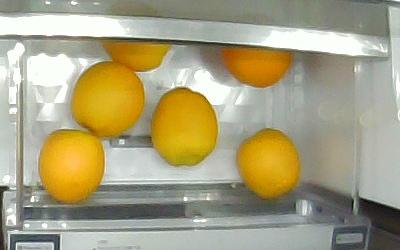orange: (71, 62, 145, 137), (151, 87, 218, 167), (39, 130, 105, 203), (236, 127, 300, 198), (214, 45, 291, 88), (98, 39, 172, 72)
